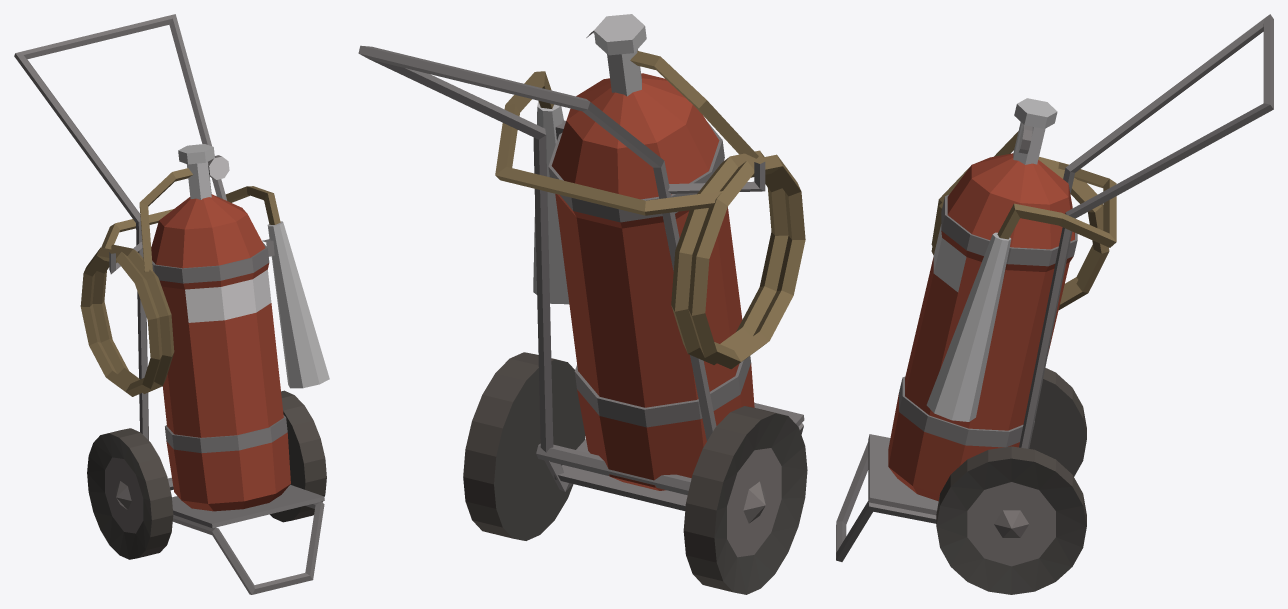
The model's file is wheeled-fire-extinguisher-4bde8b.glb.
3 renders of one model, left to right at view 1: azimuth 30°, elevation 25°; view 2: azimuth 150°, elevation 25°; view 3: azimuth 270°, elevation 25°, orthographic. The views are drawn at different scales.
Parts seen in each view (by area): view 1: object 1, wheel-l, wheel-r; view 2: object 1, wheel-l, wheel-r; view 3: object 1, wheel-r, wheel-l.
Boxes of the visible parts, x1=… form: object 1: x1=14, y1=14, x2=329, y2=594; wheel-l: x1=87, y1=428, x2=173, y2=559; wheel-r: x1=270, y1=390, x2=326, y2=522; object 1: x1=358, y1=14, x2=805, y2=510; wheel-l: x1=683, y1=406, x2=807, y2=594; wheel-r: x1=463, y1=352, x2=585, y2=540; object 1: x1=836, y1=14, x2=1273, y2=561; wheel-r: x1=936, y1=446, x2=1086, y2=594; wheel-l: x1=1029, y1=368, x2=1086, y2=476.
Bounding box in the file's own units: 0.5701 × 1.21 × 0.989.
